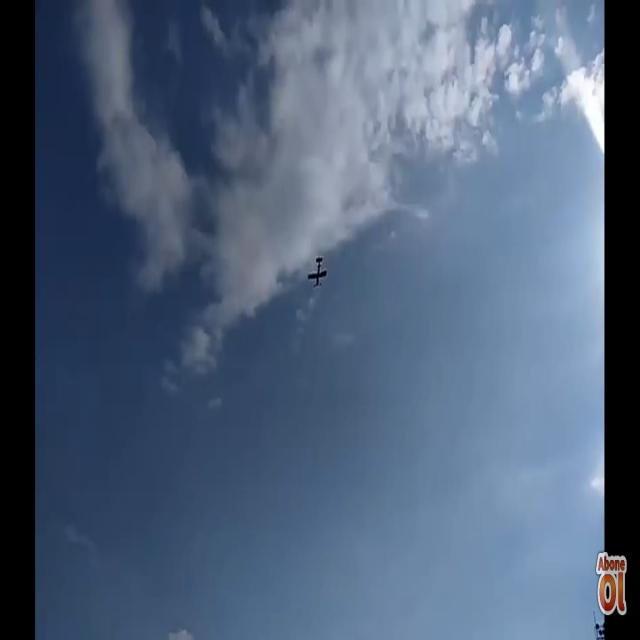iha: (308, 256, 327, 288)
